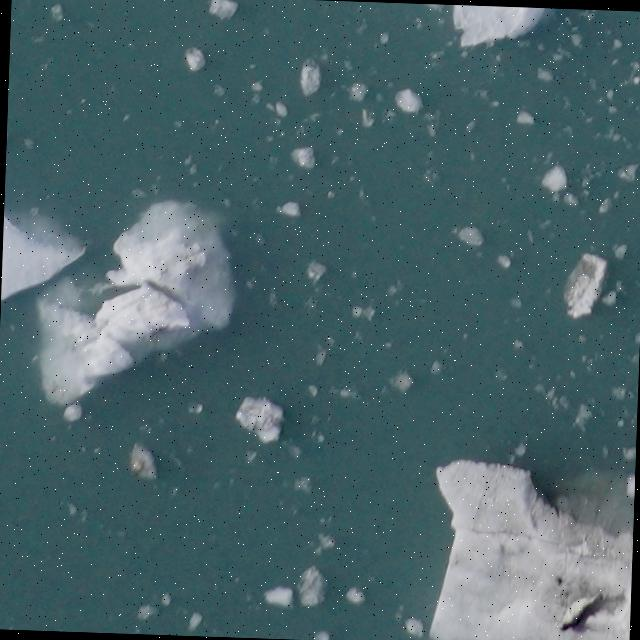seal: (551, 585, 609, 639)
